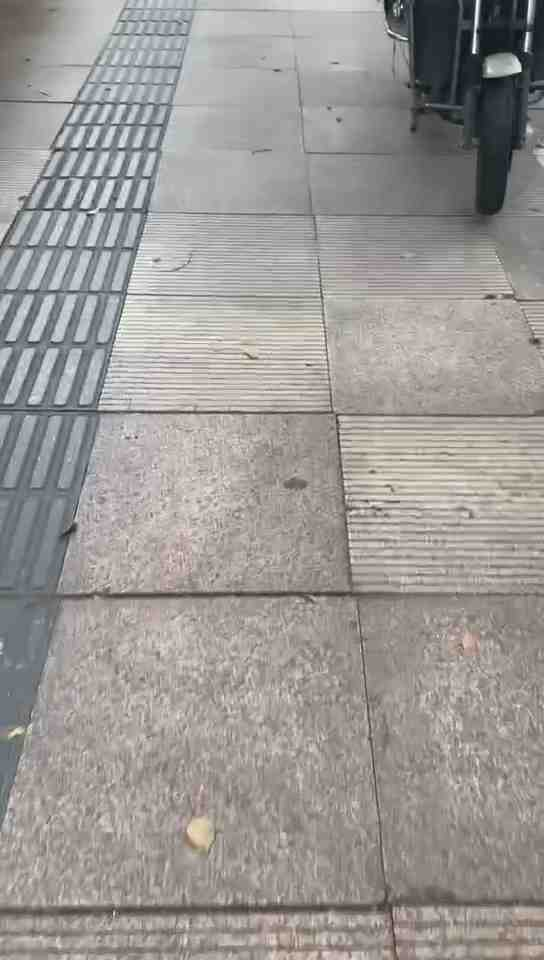leaf: (184, 813, 218, 853)
